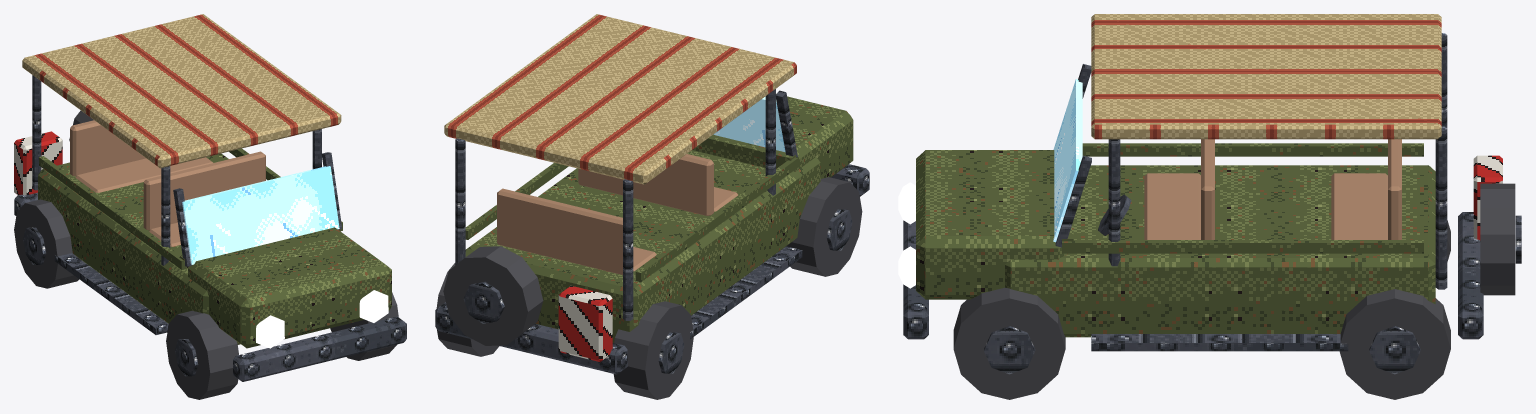
File: safari_jeep.glb
3 views of the same model, side by side, from view 1: azimuth 30°, elevation 25°; view 2: azimuth 150°, elevation 25°; view 3: azimuth 270°, elevation 25° (orthographic). The views are drawn at different scales.
Parts seen in each view (by area): view 1: Jeep, Glow; view 2: Jeep; view 3: Jeep, Glow.
Part boxes in pixels (<box>): Jeep: <box>14,14,406,399</box>; Glow: <box>256,290,388,348</box>; Jeep: <box>435,14,869,399</box>; Jeep: <box>903,14,1521,399</box>; Glow: <box>898,182,915,288</box>.
Bounding box in the file's own units: 2.46 × 2.57 × 5.34.
Materials: 8 (5 with a texture image).
